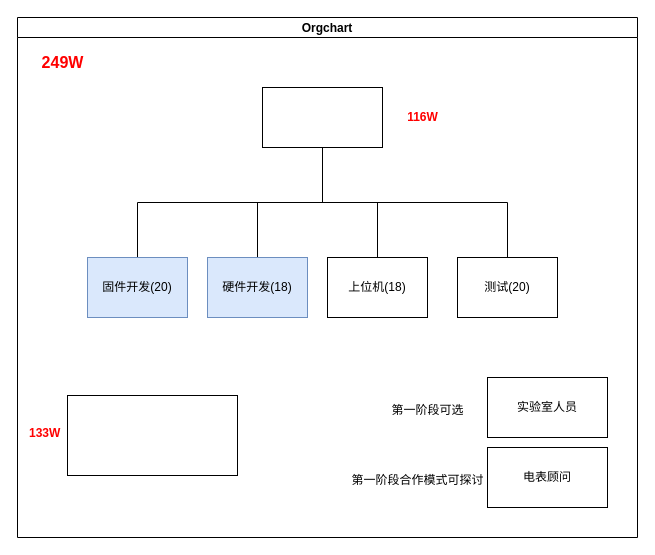
The diagram is 655 pixels wide and 555 high, and some of its shapes have lost their labels. Here are the shapes that lost their labels. From the top down, the centre of each, then its label:
At (322,117): "产品开发测试(40)".
At (152,435): "计量误差（准确度实验室） 安规实验室 EMC实验室 环境实验室 基建，吊装".
